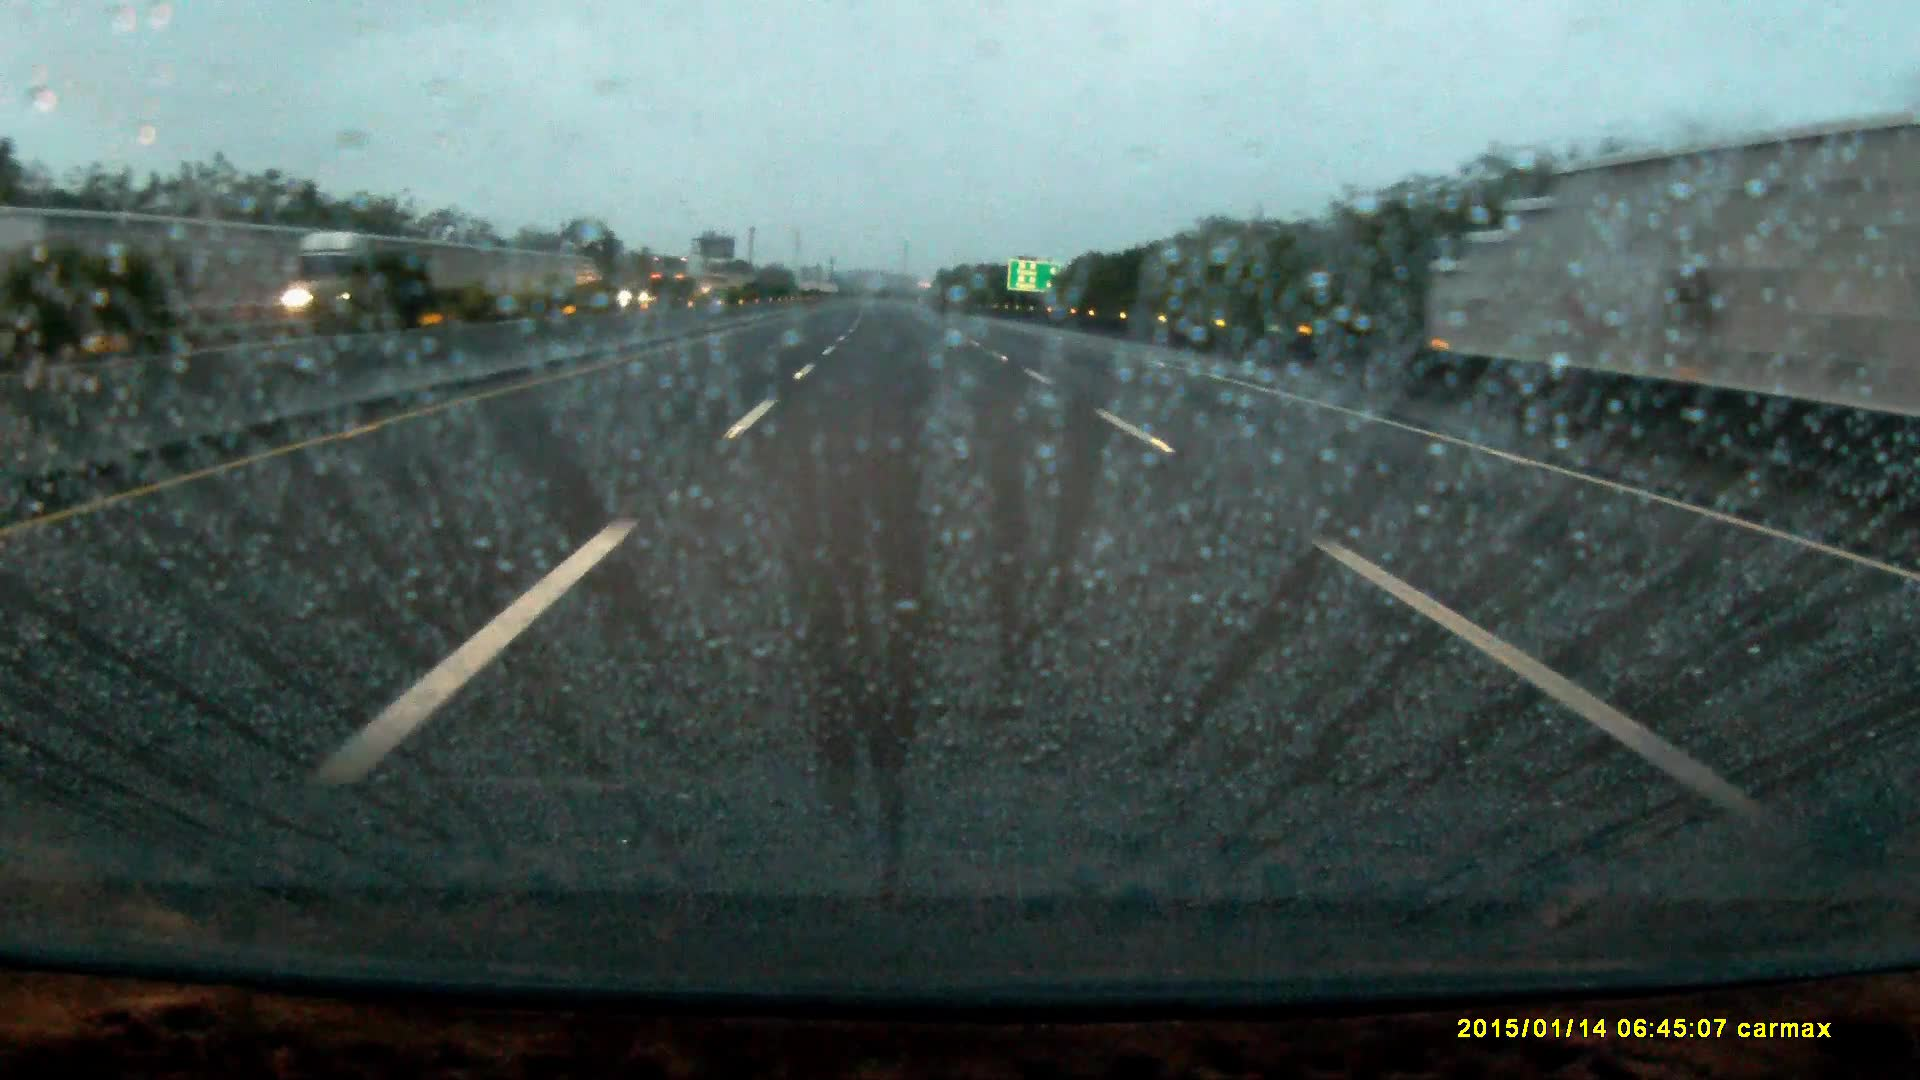vehicle: (282, 231, 411, 339), (647, 257, 705, 314)
